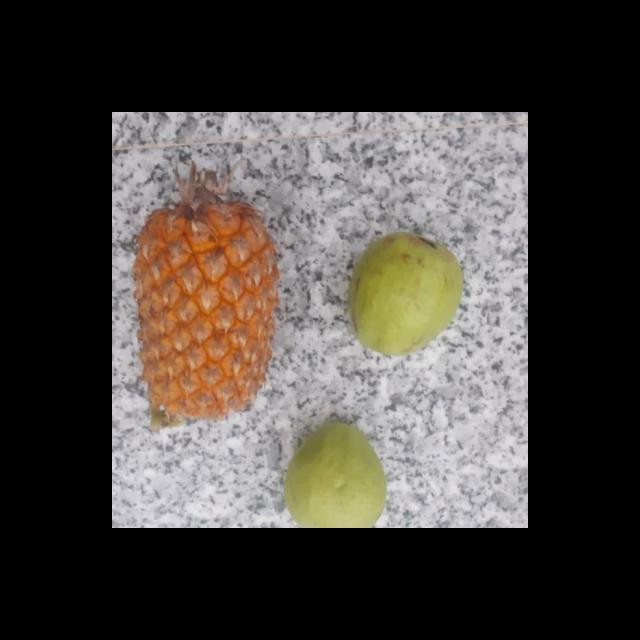guava: (343, 236, 462, 355), (280, 426, 390, 528)
pineapple: (133, 195, 274, 429)
